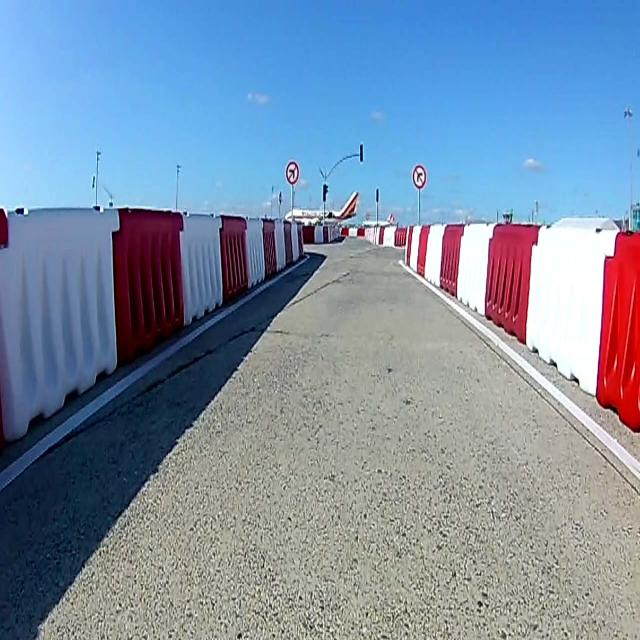sagadonulmez: (412, 165, 425, 188)
soladonulmez: (285, 160, 300, 184)
